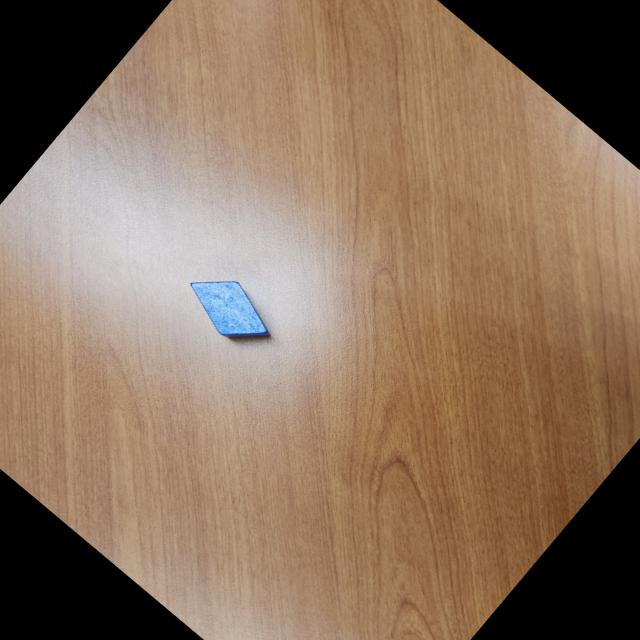blue: (175, 257, 283, 360)
